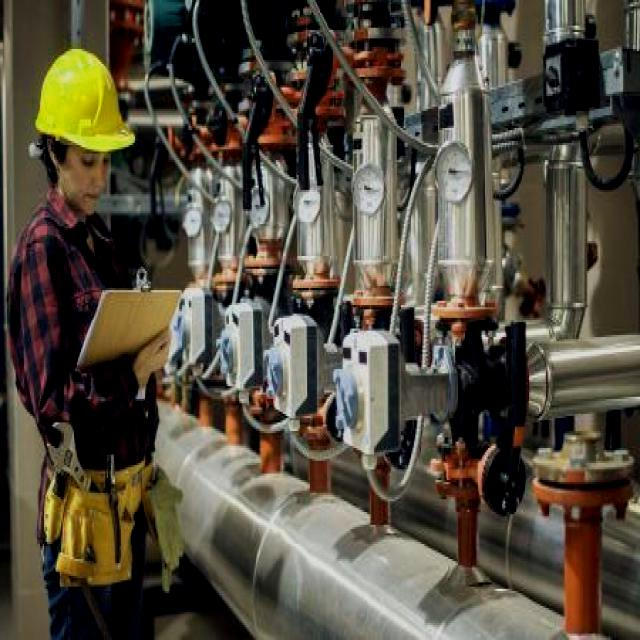face_nomask: (64, 145, 120, 219)
hand_noglove: (125, 328, 178, 386)
head_helmet: (29, 44, 138, 159)
person: (0, 53, 181, 629)
